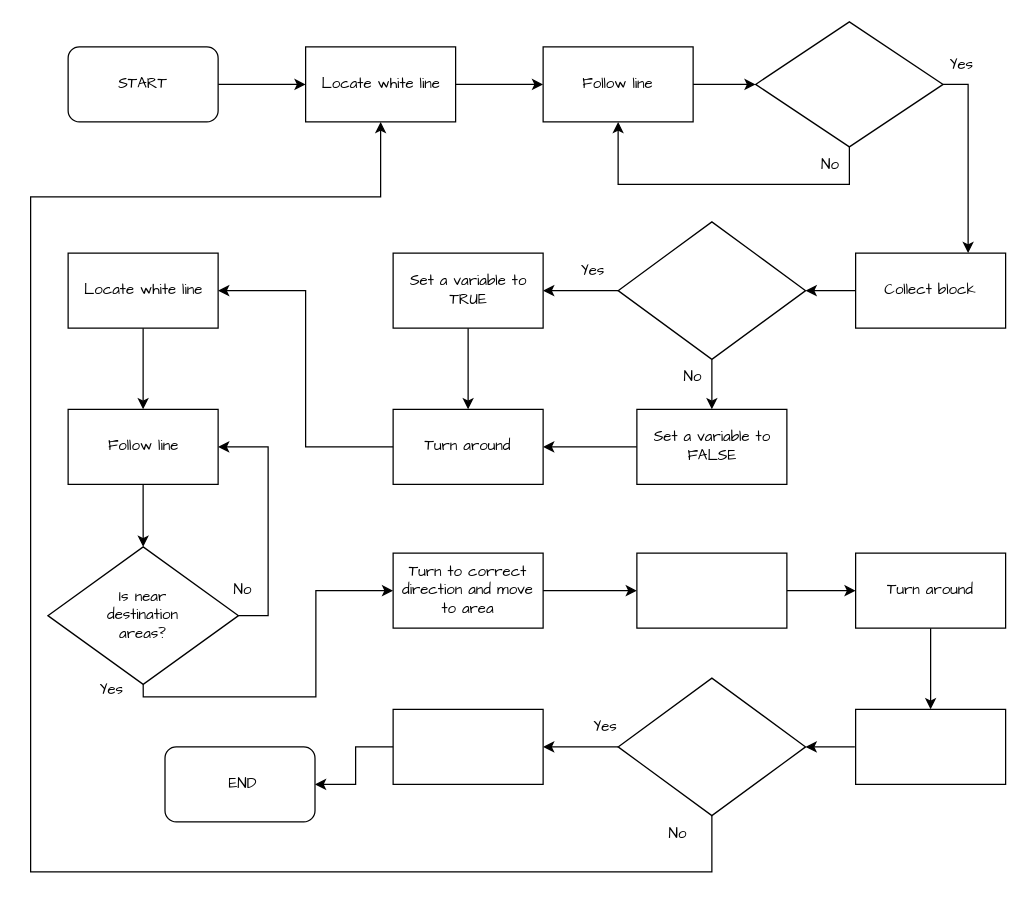
The diagram is 1028 pixels wide and 904 high, and some of its shapes have lost their labels. The box of each missing label's shape, as (x1, y1, x2, y2) in pixels:
All blocks delivered?: (617, 677, 806, 816)
Detected metal within block?: (617, 221, 806, 359)
Increase counter for number of blocks delivered: (854, 708, 1006, 784)
Is in blocks area?: (754, 21, 943, 147)
Release block: (636, 552, 787, 628)
Return to starting area: (392, 708, 543, 784)
